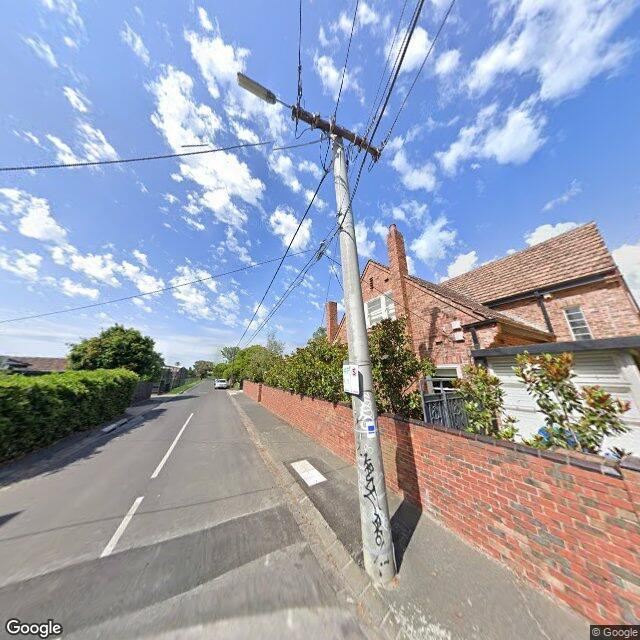concrete-pole: (330, 131, 398, 583)
crossarm: (291, 106, 379, 161)
streetlight: (235, 70, 293, 108)
